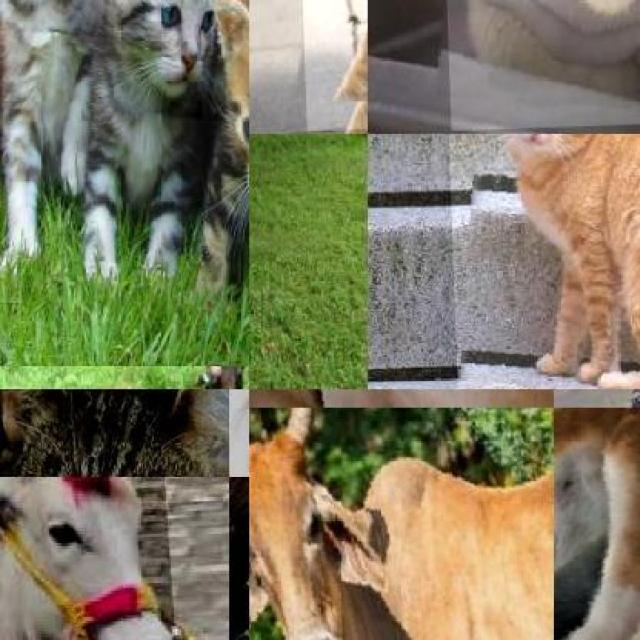cat: (446, 134, 640, 389), (431, 0, 640, 131), (0, 389, 229, 477), (114, 0, 240, 122), (294, 0, 368, 131), (211, 0, 249, 229), (0, 0, 129, 38)
cow: (249, 407, 553, 640), (0, 477, 200, 640), (182, 366, 249, 389)
dog: (554, 407, 640, 640)
